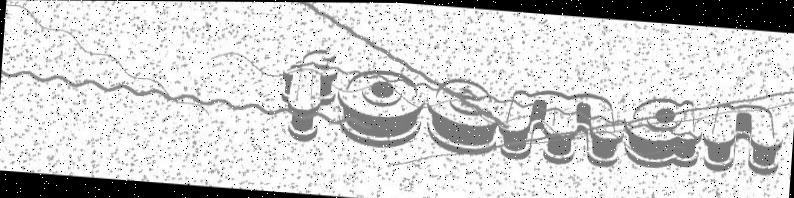a: (617, 86, 703, 176)
e: (424, 73, 506, 161)
f: (271, 35, 343, 145)
m: (499, 80, 631, 173)
n: (702, 85, 790, 187)
o: (335, 59, 427, 149)
